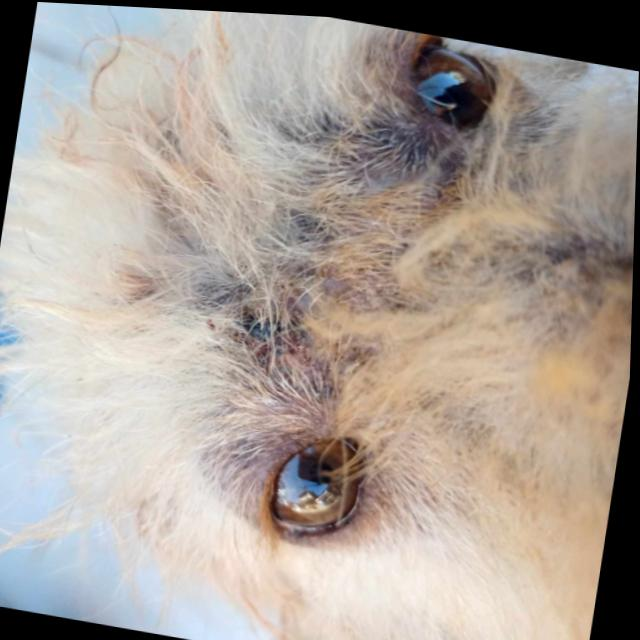demodicosis: (183, 238, 355, 400), (334, 121, 458, 207)
